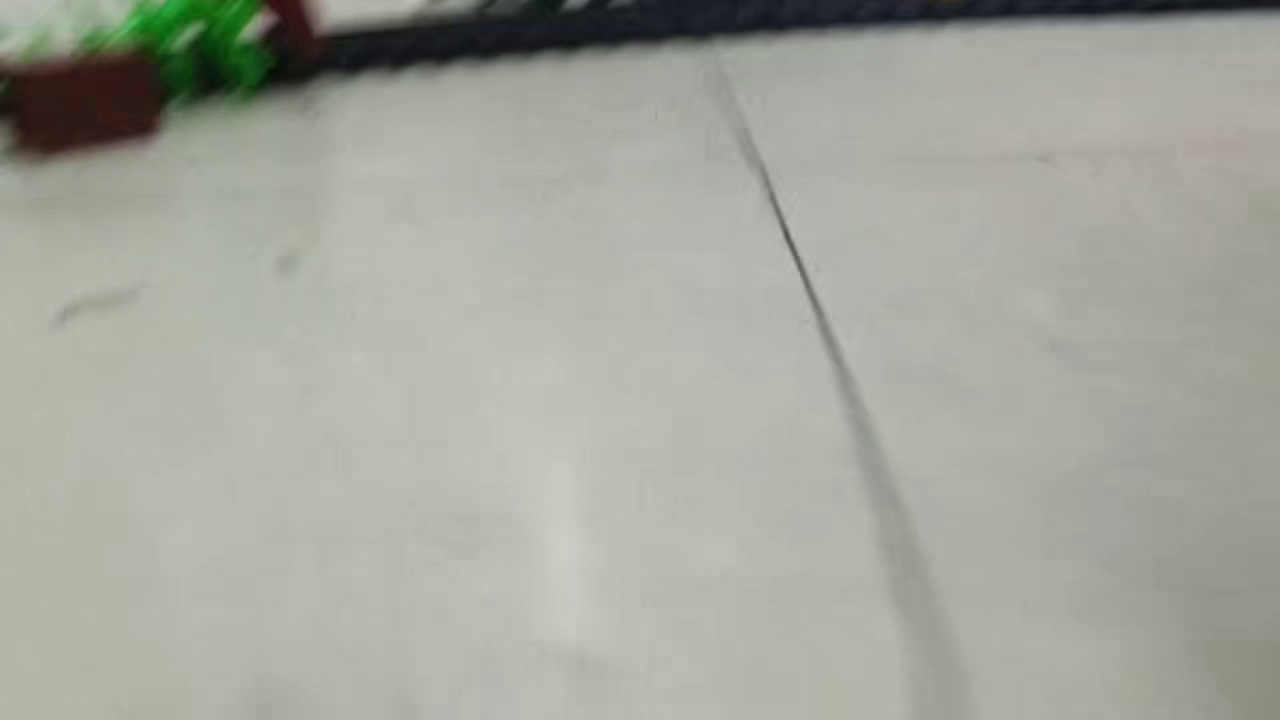box: (8, 33, 169, 163)
tree: (74, 1, 320, 110)
